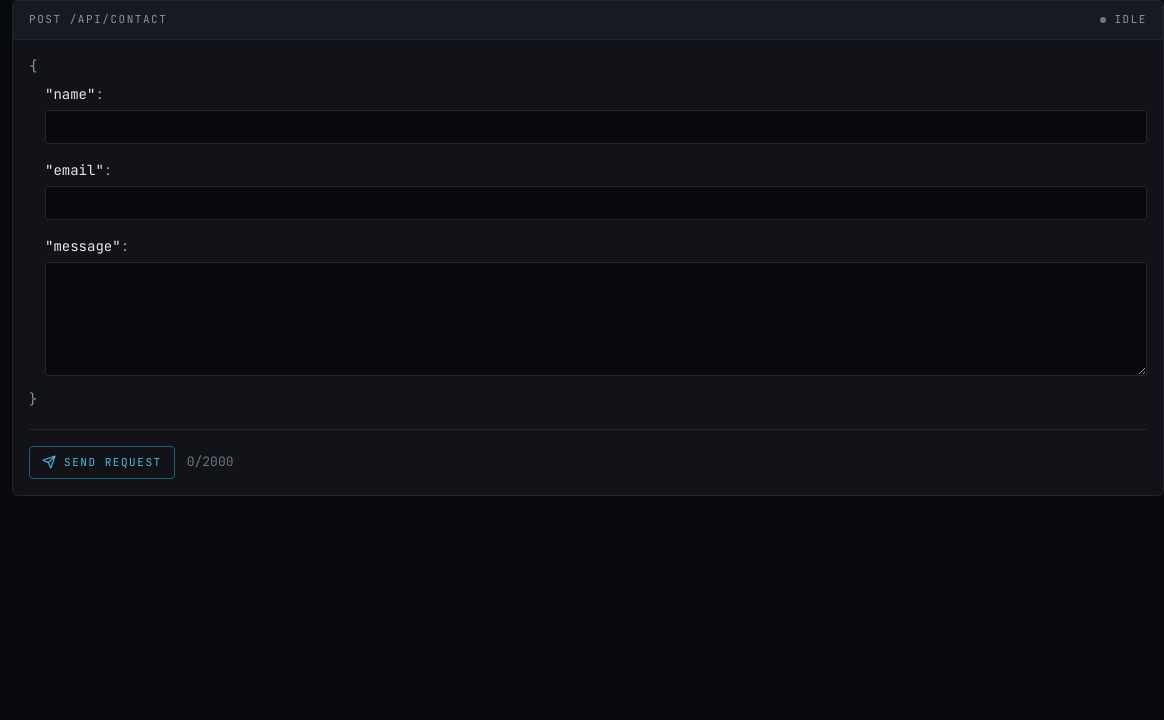
ContactTerminal — envío exitoso › muestra 201 CREATED sólo cuando el servidor lo confirma
Step 1. Type "Ana Pérez" into the field labelled "\"name\":" → (596, 127), box top-left (45, 110), bottom-right (1147, 144)
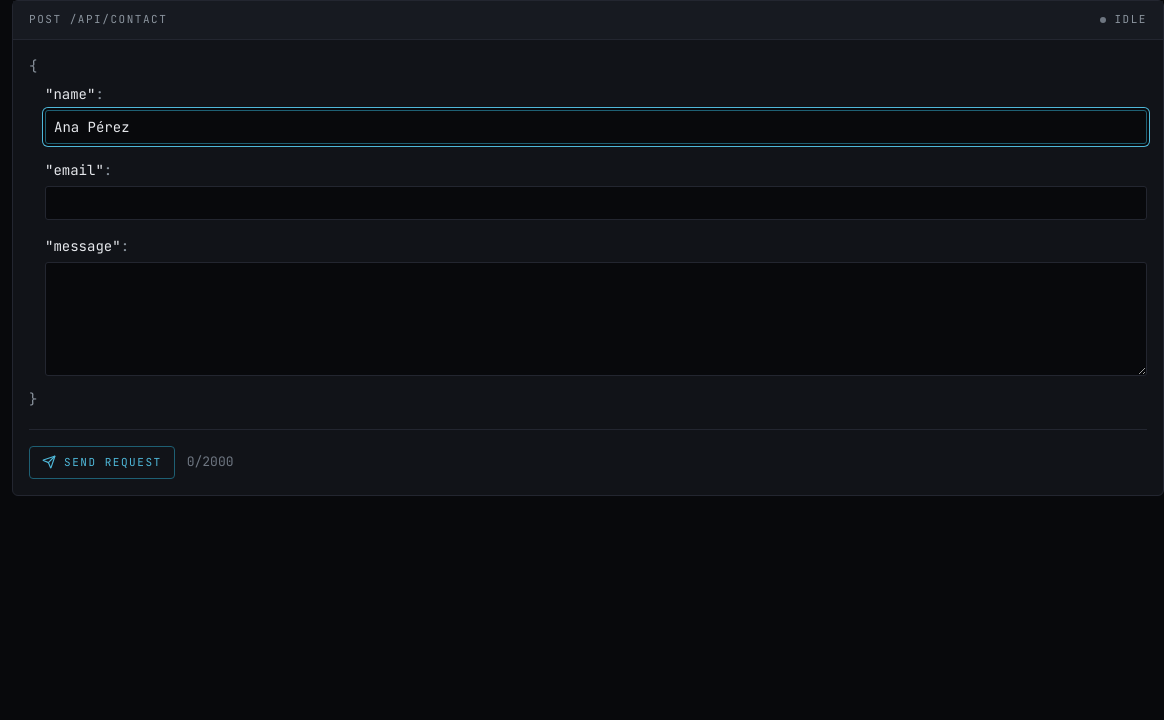
Step 2. Type "ana@empresa.com" into the field labelled "\"email\":" → (596, 203), box top-left (45, 186), bottom-right (1147, 220)
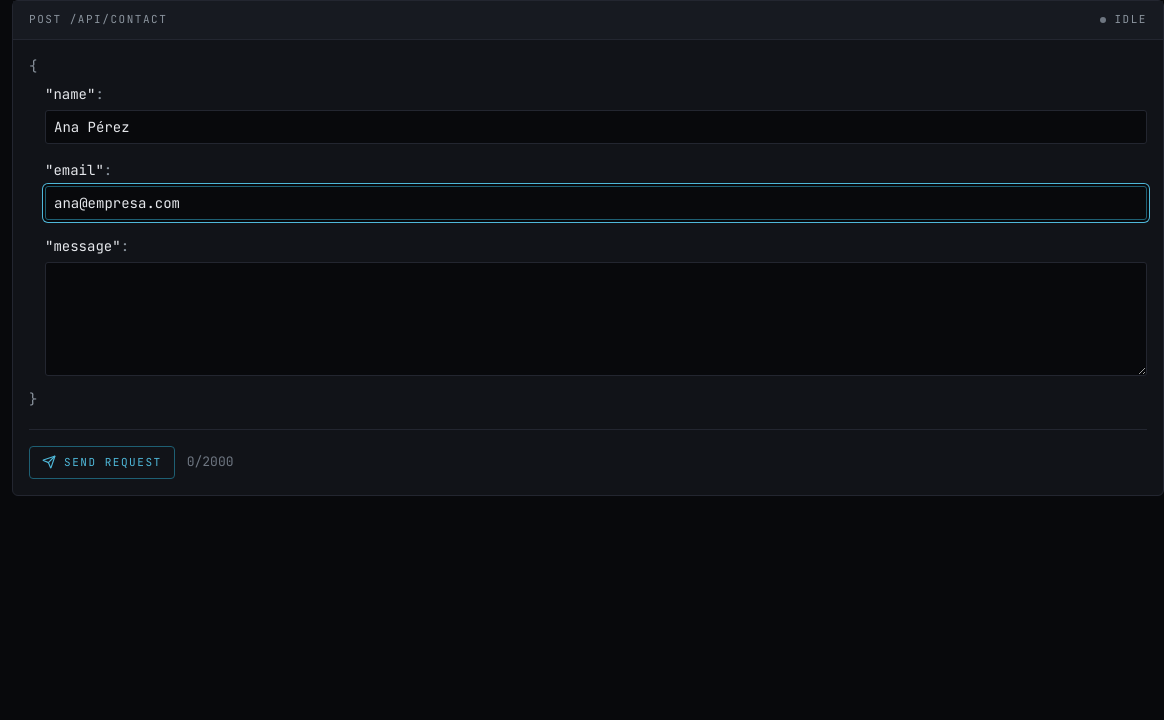
Step 3. Type "Hola Cristian, te escribo por una posición backend con NestJS." into the text box labelled "\"message\":" → (596, 319), box top-left (45, 262), bottom-right (1147, 376)
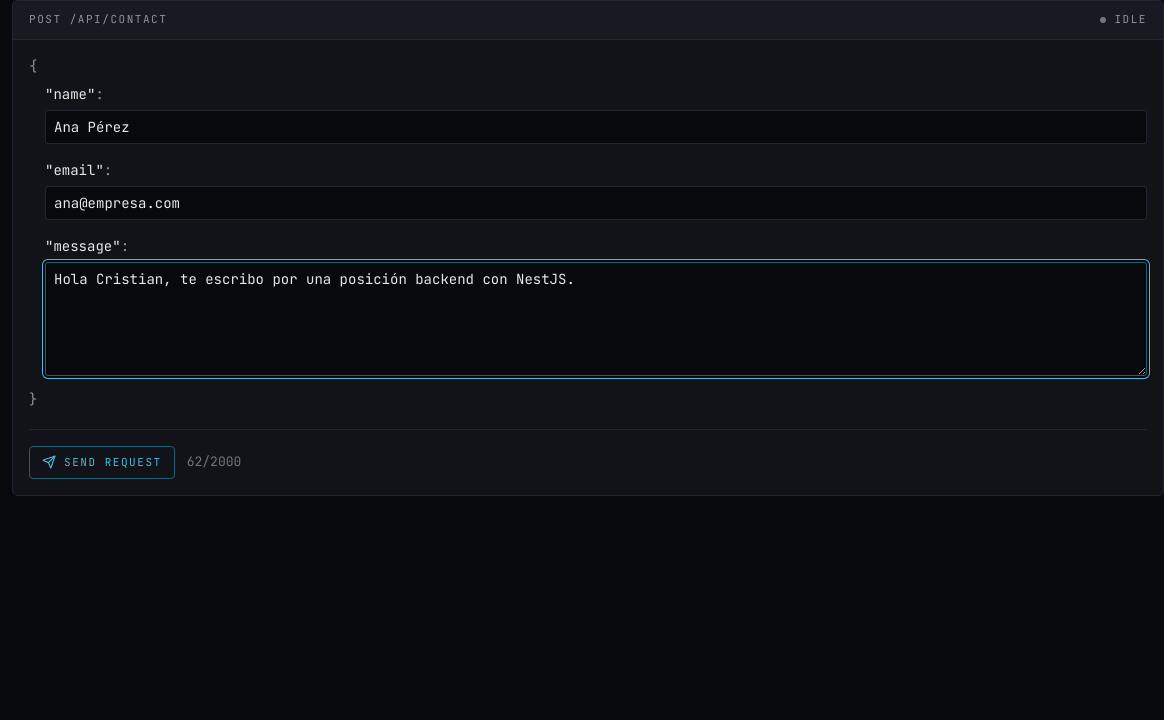
Step 4. Click the button "send request" → (102, 462), box top-left (29, 446), bottom-right (175, 479)
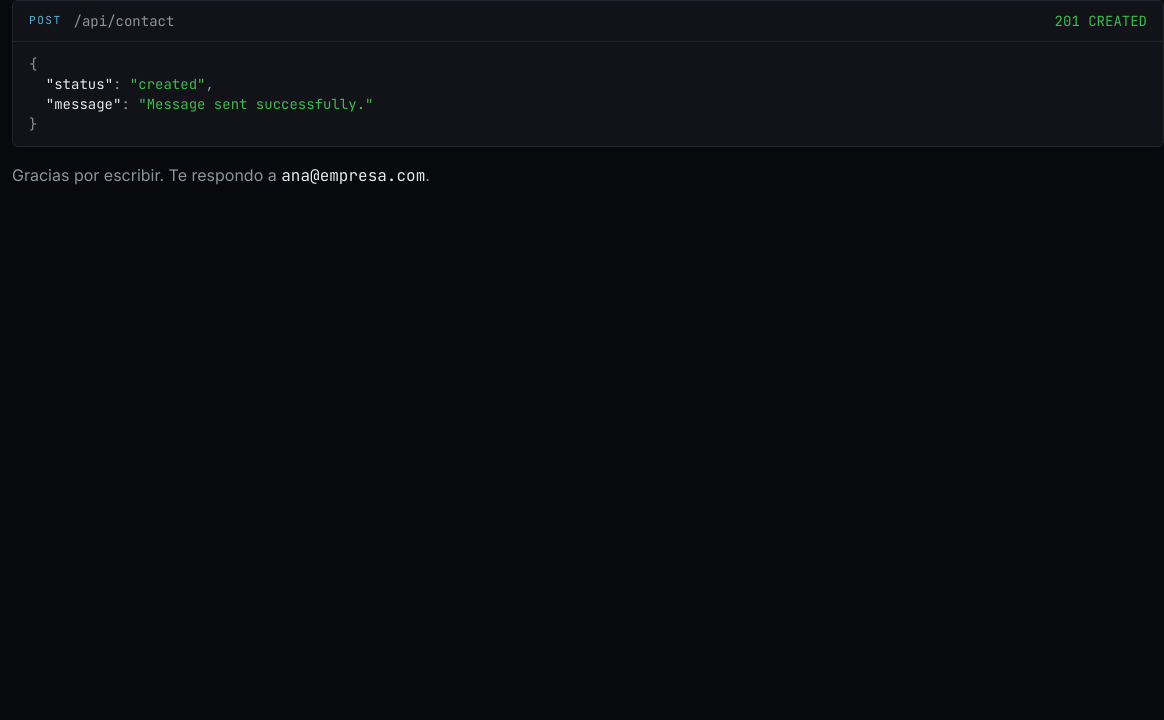
Expected: the text "201 CREATED" is shown, top-left (1055, 11), bottom-right (1147, 31)
Expected: the text "\"Message sent successfully.\"" is shown, top-left (138, 95), bottom-right (374, 113)
